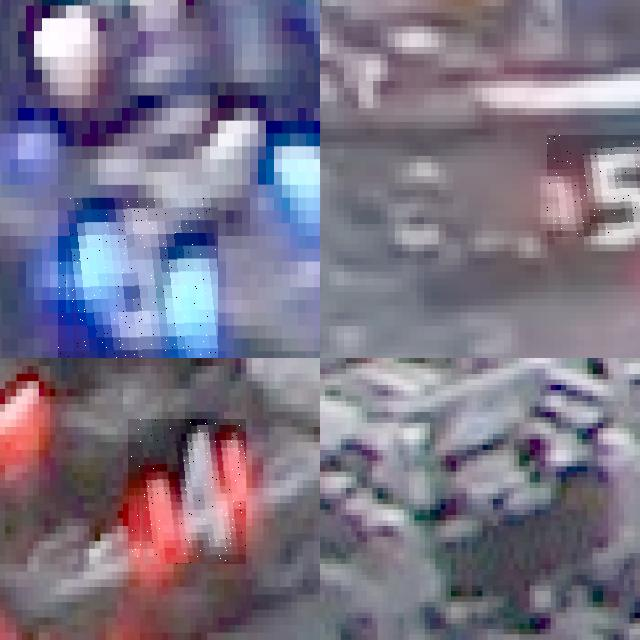B5: (58, 197, 218, 358)
R4: (128, 419, 246, 564)
R5: (547, 135, 640, 237)
